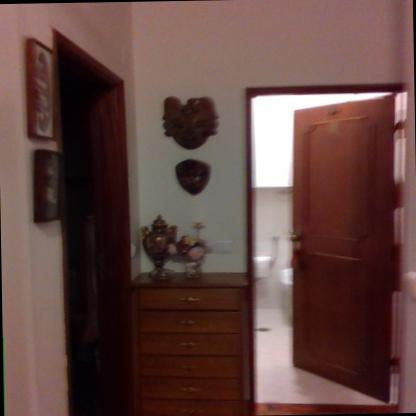semi: (236, 72, 415, 416)
